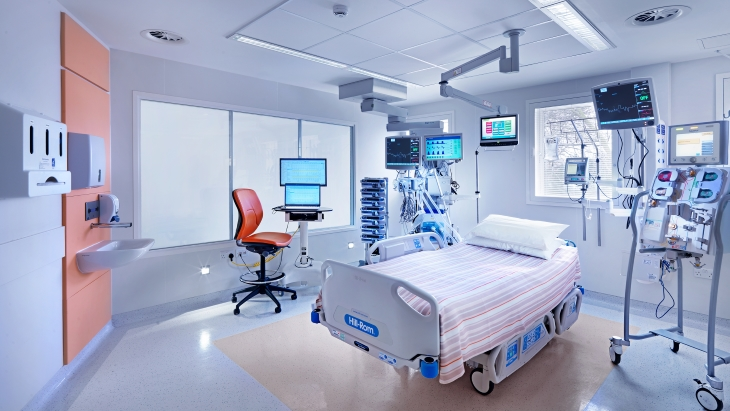TV: (277, 157, 328, 187)
bedrail: (488, 312, 555, 384), (365, 232, 445, 264), (557, 288, 584, 335)
bedside_monitor: (591, 77, 660, 131), (664, 116, 730, 169), (478, 113, 520, 151), (422, 133, 465, 164), (383, 137, 422, 170)
breathing_tube: (414, 184, 465, 242)
chair: (231, 188, 298, 315)
computer: (284, 183, 321, 212)
dispenser: (69, 133, 106, 189), (98, 193, 120, 223)
faucet: (91, 221, 133, 231)
foot_board: (319, 259, 440, 369)
hospital_bed: (309, 214, 584, 395)
iv_pole: (543, 118, 604, 247)
sink: (77, 237, 155, 274)
syringe_pump: (360, 225, 388, 235), (360, 187, 388, 197), (362, 177, 388, 187), (360, 206, 388, 215), (361, 215, 386, 225), (361, 234, 386, 244), (361, 198, 387, 206)
